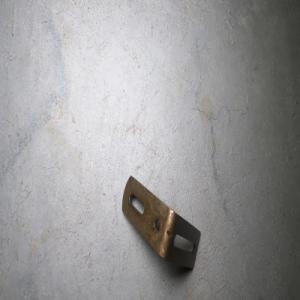MetalPart: (121, 174, 201, 270)
